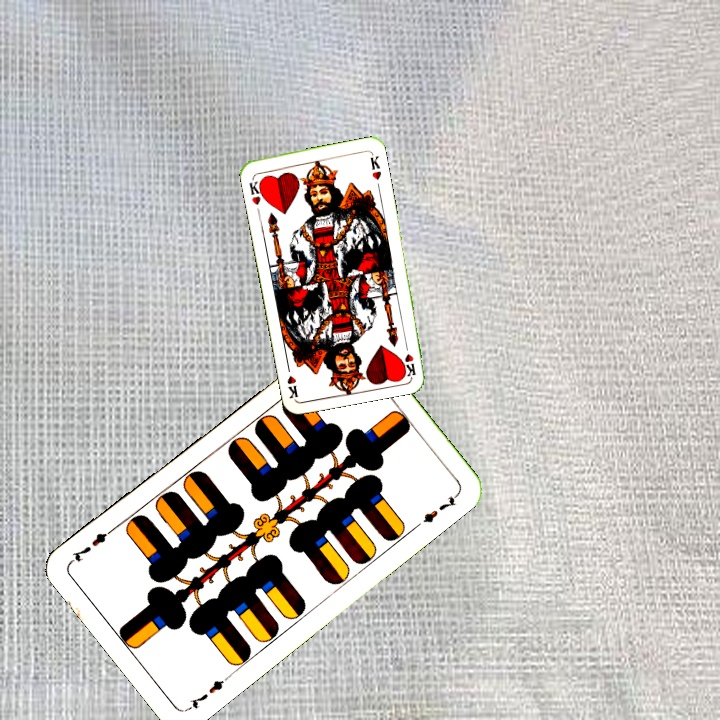E7: (183, 670, 233, 713)
HK: (245, 173, 267, 208), (400, 337, 418, 378)
